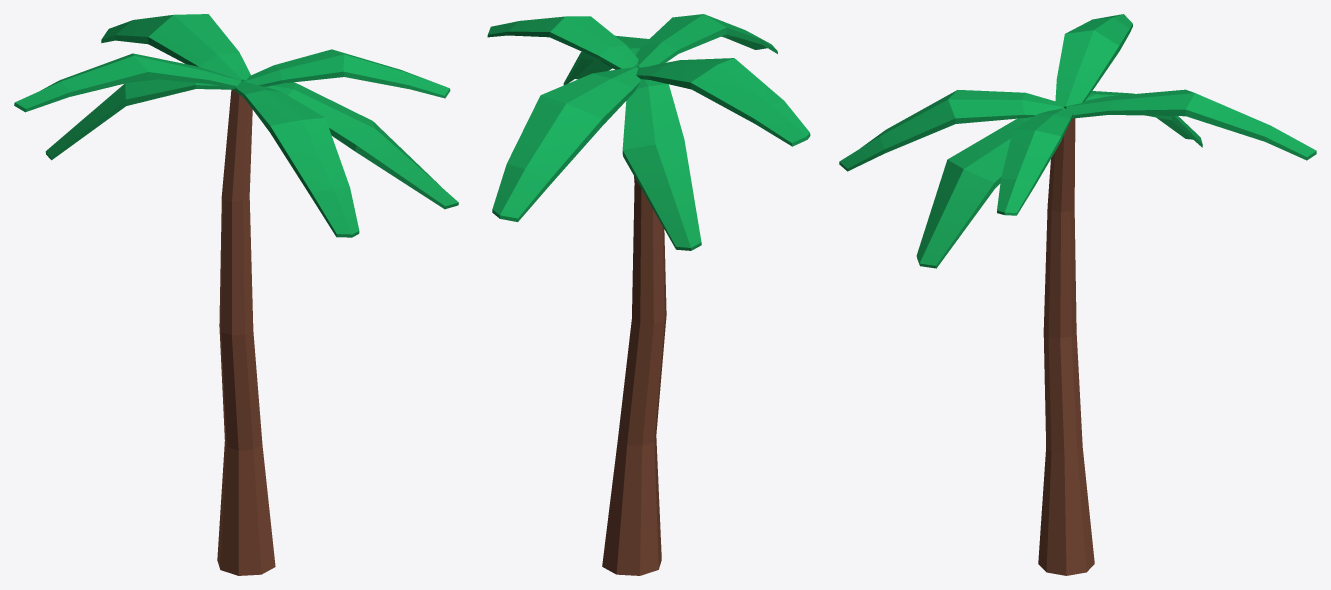
Rendered from Tree_38_gradient_green_vc.fbx.
The picture shows the model from 3 angles, left to right: view 1: azimuth 30°, elevation 25°; view 2: azimuth 150°, elevation 25°; view 3: azimuth 270°, elevation 25°; orthographic projection. The views are drawn at different scales.
Parts seen in each view (by area): view 1: Tree_38_gradient_green_vc; view 2: Tree_38_gradient_green_vc; view 3: Tree_38_gradient_green_vc.
Part boxes in pixels (x1,y1,x2,y2): Tree_38_gradient_green_vc: [14, 14, 458, 575]; Tree_38_gradient_green_vc: [487, 14, 810, 575]; Tree_38_gradient_green_vc: [839, 14, 1316, 575].
Size of the model in its own units: 160 by 214 by 189.
